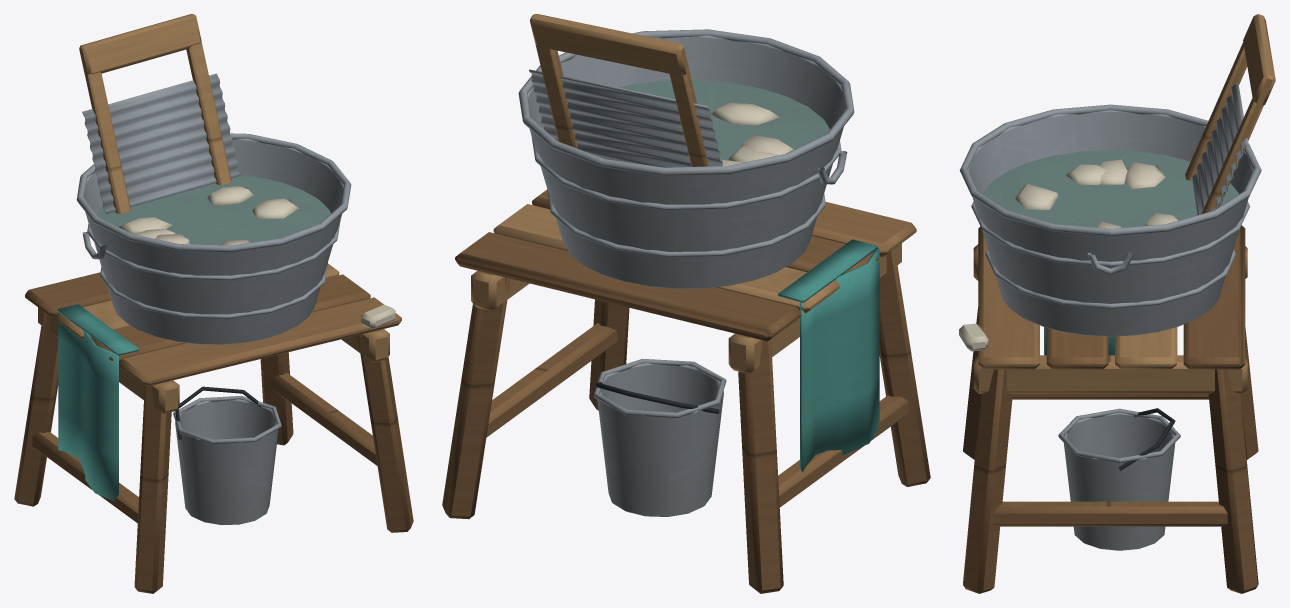
Rendered from laundry_tub.glb.
3 renders of one model, left to right at view 1: azimuth 30°, elevation 25°; view 2: azimuth 150°, elevation 25°; view 3: azimuth 270°, elevation 25°, orthographic. The views are drawn at different scales.
Visible parts, largest first — view 1: laundry_tub; view 2: laundry_tub; view 3: laundry_tub.
Boxes of the visible parts, <box> form: laundry_tub: <box>14,14,413,593</box>; laundry_tub: <box>442,14,930,593</box>; laundry_tub: <box>959,14,1275,593</box>.
Bounding box in the file's own units: 0.7891 × 1.19 × 0.7171.
13 materials, 13 textured.
